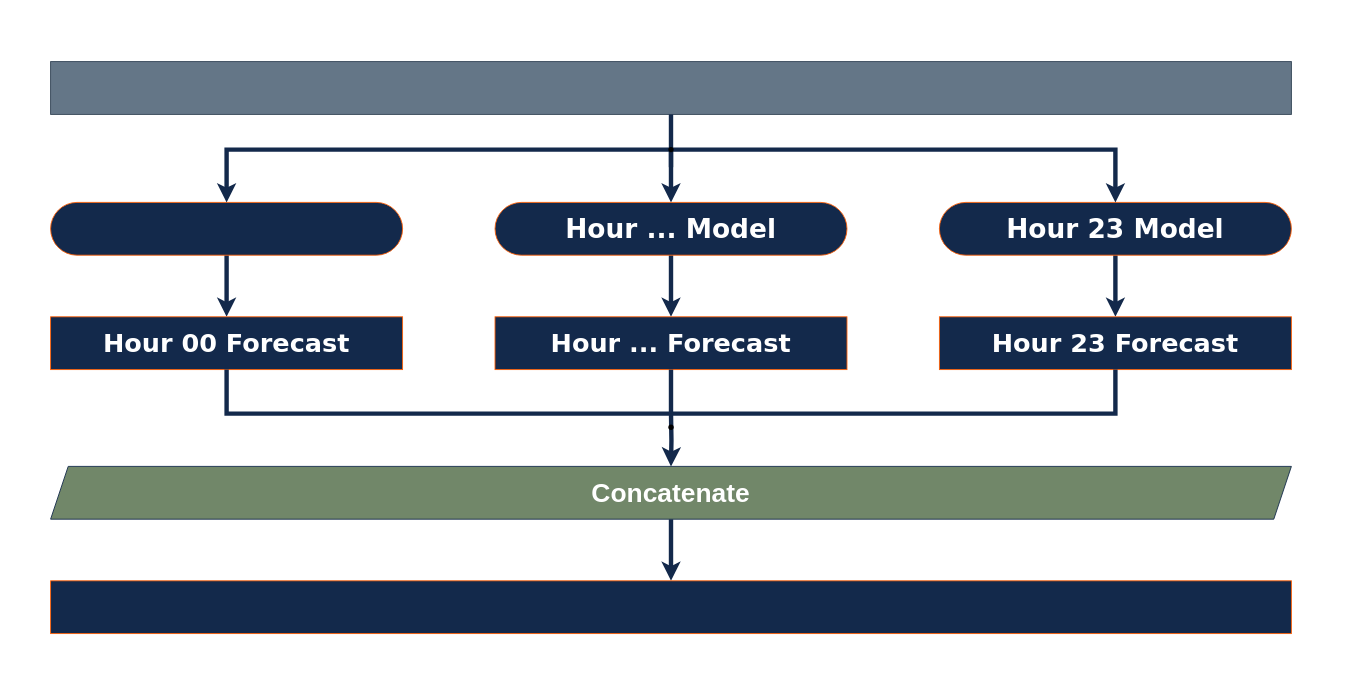
Some shapes in this 1350 by 696 pixel diagram are drawn without their labels. The centre of each missing label's shape, as x and y in pixels:
Dataset: the point at 670,87
Hour 00 Model: the point at 226,228
Price Forecast: the point at 670,607
